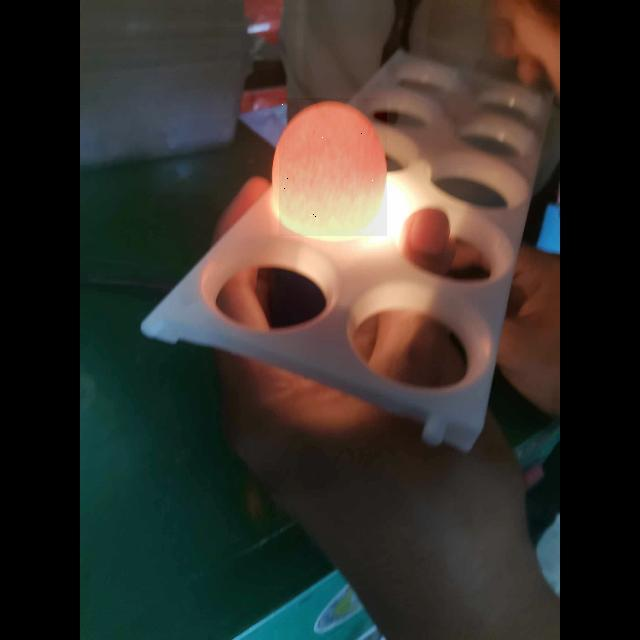Fertile: (279, 98, 387, 236)
